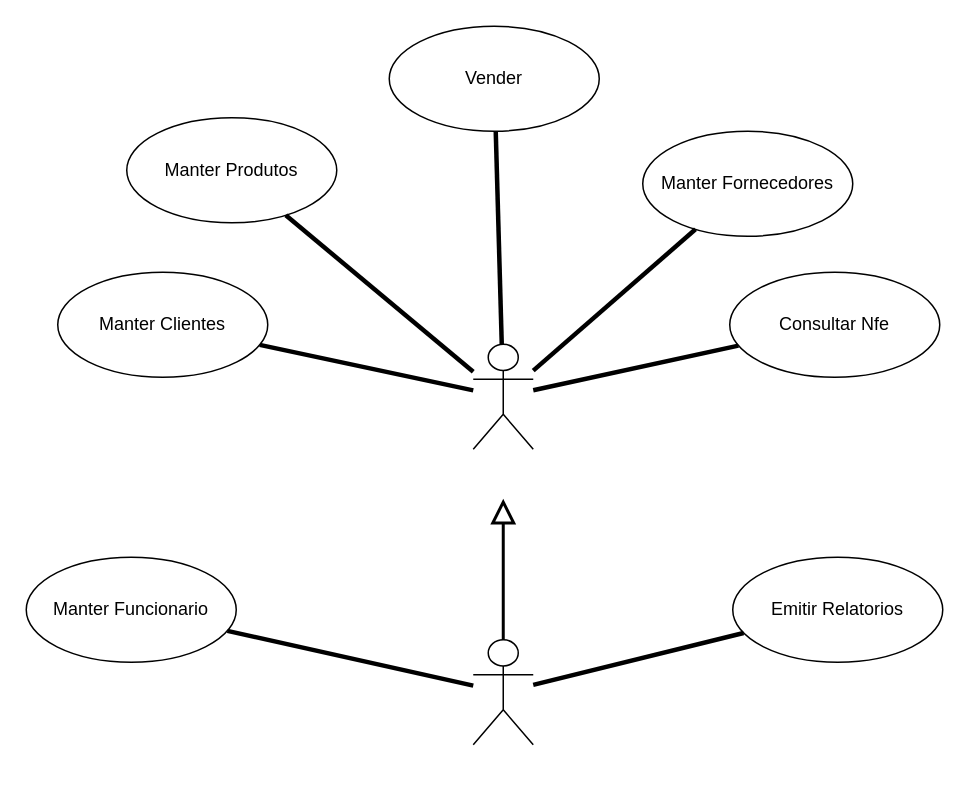
Some shapes in this 969 by 803 pixel diagram are drawn without their labels. Each missing label, with the centre of its shape:
"Funcionario" belongs at (x=502, y=396).
"Gerente" belongs at (x=502, y=691).
